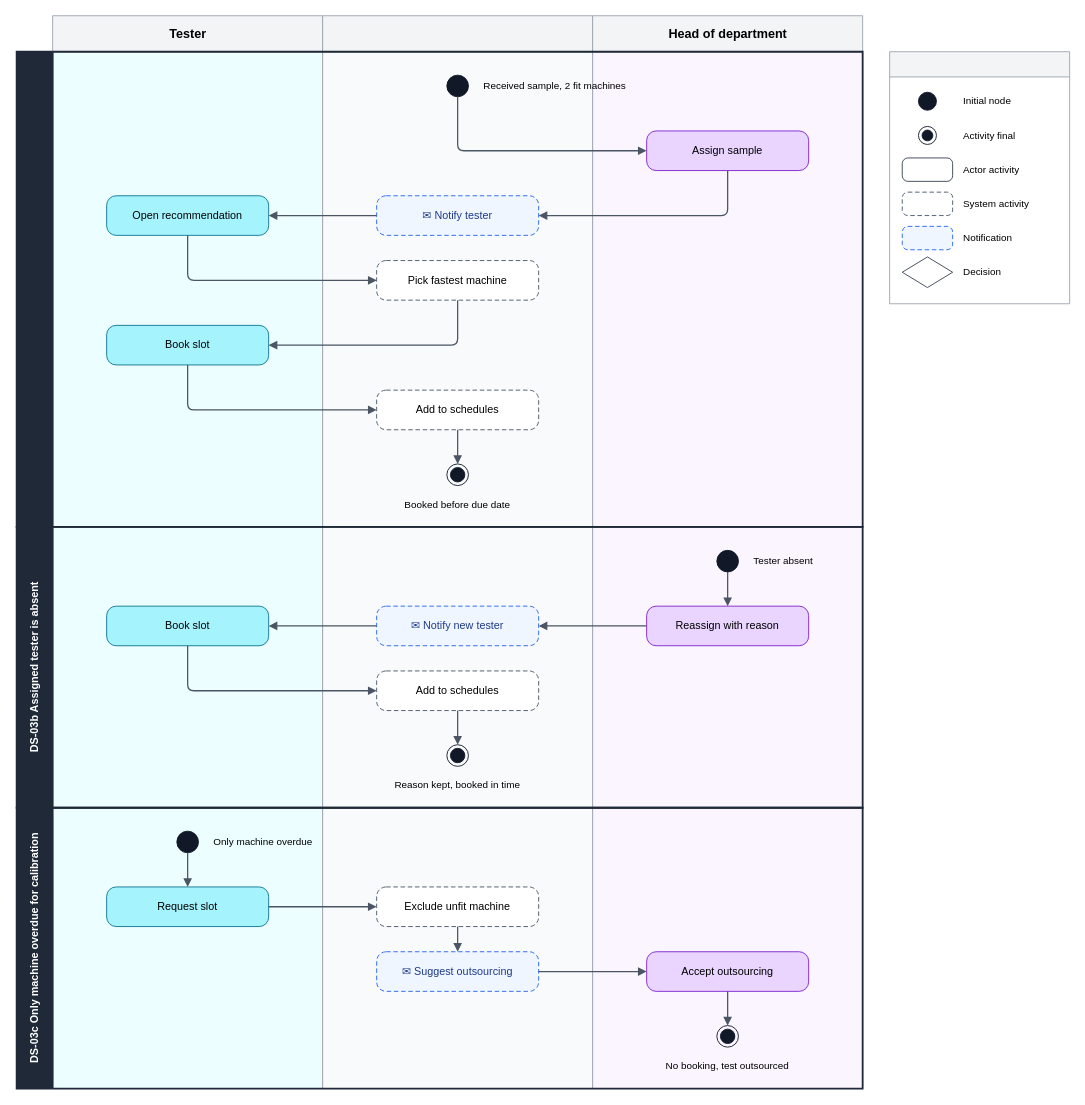
Some shapes in this 1085 by 1105 pixel diagram are drawn without their labels. Each missing label, with the box of its shape:
DS-03a Main: book the machine that finishes first: (15, 50, 863, 527)
Legend: (889, 51, 1070, 304)
System: (322, 15, 593, 1089)
